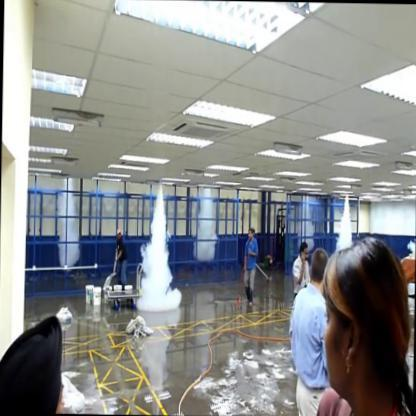smoke: (136, 188, 184, 316), (333, 201, 354, 252)
